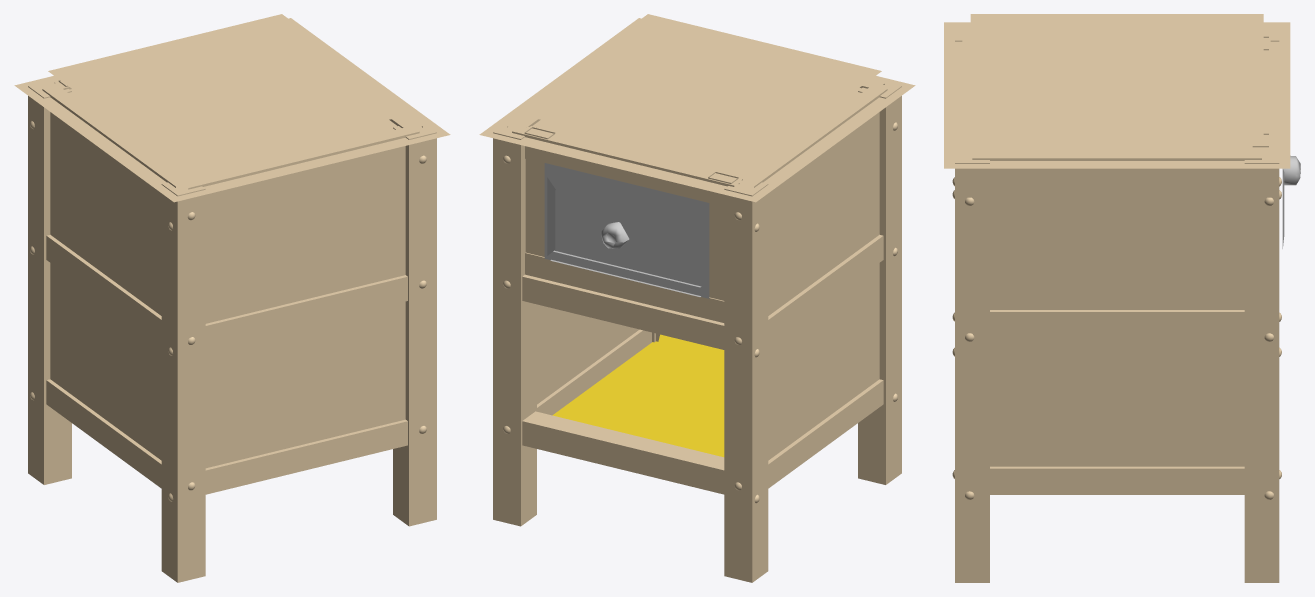
File: lemari.fbx
The picture shows the model from 3 angles, left to right: view 1: azimuth 30°, elevation 25°; view 2: azimuth 150°, elevation 25°; view 3: azimuth 270°, elevation 25°; orthographic projection. The views are drawn at different scales.
Visible parts, largest first — view 1: Side walls, Leg, Drawer top, Truss; view 2: Leg, Drawer top, Side walls, Truss, Door, Base 2, truss 2, truss 3, Drawer parts, Knob, Nut; view 3: Side walls, Drawer top, Leg, Truss, truss 2, Nut.
Part boxes in pixels (x1=…): Side walls: x1=42, y1=85, x2=422, y2=468; Leg: x1=28, y1=79, x2=436, y2=582; Drawer top: x1=14, y1=14, x2=450, y2=202; Truss: x1=46, y1=234, x2=407, y2=494; Leg: x1=493, y1=79, x2=901, y2=582; Drawer top: x1=479, y1=14, x2=915, y2=202; Side walls: x1=507, y1=80, x2=887, y2=460; Truss: x1=522, y1=234, x2=883, y2=494; Door: x1=544, y1=163, x2=709, y2=298; Base 2: x1=552, y1=334, x2=724, y2=457; truss 2: x1=512, y1=126, x2=742, y2=322; truss 3: x1=524, y1=127, x2=738, y2=300; Drawer parts: x1=550, y1=250, x2=701, y2=296; Knob: x1=600, y1=222, x2=629, y2=248; Nut: x1=503, y1=122, x2=897, y2=503; Side walls: x1=962, y1=31, x2=1261, y2=466; Drawer top: x1=944, y1=14, x2=1290, y2=168; Leg: x1=955, y1=26, x2=1279, y2=582; Truss: x1=990, y1=310, x2=1244, y2=494; truss 2: x1=1251, y1=36, x2=1270, y2=153; Nut: x1=952, y1=177, x2=1281, y2=499.
Bounding box in the file's own units: 239 × 334 × 246.
